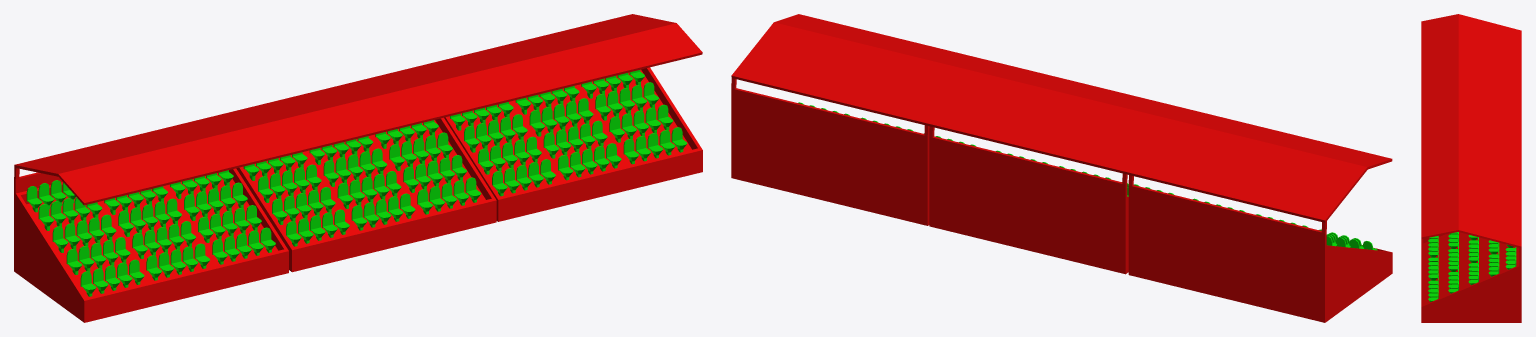
The model's file is Stadium_3.fbx.
The picture shows the model from 3 angles, left to right: view 1: azimuth 30°, elevation 25°; view 2: azimuth 150°, elevation 25°; view 3: azimuth 270°, elevation 25°; orthographic projection. The views are drawn at different scales.
Visible parts, largest first — view 1: Stadium3; view 2: Stadium3; view 3: Stadium3.
Part boxes in pixels (x1,y1,x2,y2): Stadium3: (14,14,702,322); Stadium3: (731,14,1392,322); Stadium3: (1421,14,1521,322).
Size of the model in its own units: 4512 by 906 by 889.
